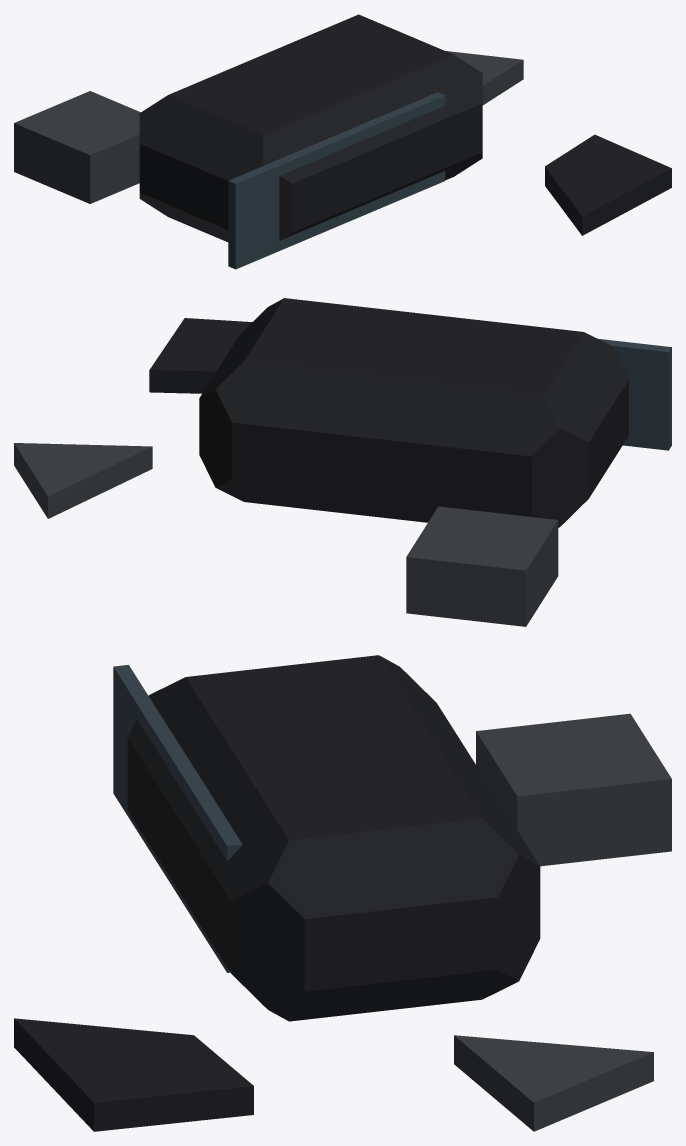
Rendered from debris_plastique.glb.
3 views of the same model, one above another, from view 1: azimuth 30°, elevation 25°; view 2: azimuth 150°, elevation 25°; view 3: azimuth 270°, elevation 25° (orthographic). The views are drawn at different scales.
Visible parts, largest first — view 1: mirror, stalk, glass, shard_a, shard_b; view 2: mirror, stalk, shard_b, glass, shard_a; view 3: mirror, stalk, shard_a, shard_b, glass.
Part boxes in pixels (box(x1,y1,x2,y2)): mirror: box(139, 14, 482, 241); stalk: box(14, 91, 140, 203); glass: box(228, 92, 445, 269); shard_a: box(545, 134, 671, 235); shard_b: box(446, 51, 523, 105); mirror: box(199, 298, 628, 527); stalk: box(406, 506, 558, 626); shard_b: box(14, 443, 152, 518); glass: box(599, 339, 671, 450); shard_a: box(149, 318, 252, 393); mirror: box(127, 655, 540, 1021); stalk: box(476, 713, 671, 866); shard_a: box(14, 1018, 253, 1131); shard_b: box(454, 1035, 653, 1131); glass: box(113, 665, 242, 972).
Bounding box in the file's own units: 0.2045 × 0.05 × 0.1645.
3 materials, 3 textured.
